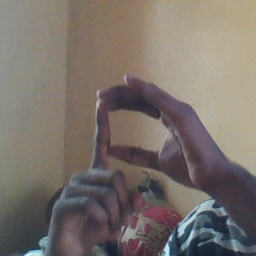P: (63, 73, 193, 228)
